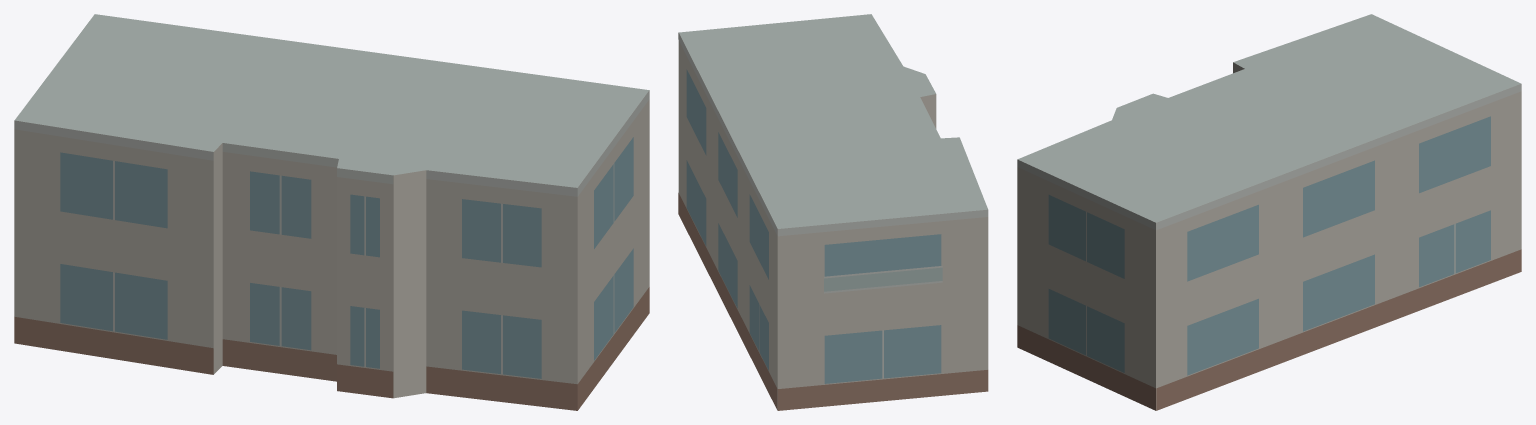
The model's file is survey-upis-32625319.glb.
3 renders of one model, left to right at view 1: azimuth 30°, elevation 25°; view 2: azimuth 150°, elevation 25°; view 3: azimuth 270°, elevation 25°, orthographic. The views are drawn at different scales.
Visible parts, largest first — view 1: survey-upis-32625319.tmp; view 2: survey-upis-32625319.tmp; view 3: survey-upis-32625319.tmp.
Part boxes in pixels (x1,y1,x2,y2): survey-upis-32625319.tmp: (14, 14, 649, 410); survey-upis-32625319.tmp: (678, 14, 988, 410); survey-upis-32625319.tmp: (1017, 14, 1521, 410).
Size of the model in its own units: 14.54 by 6.1 by 14.83.
